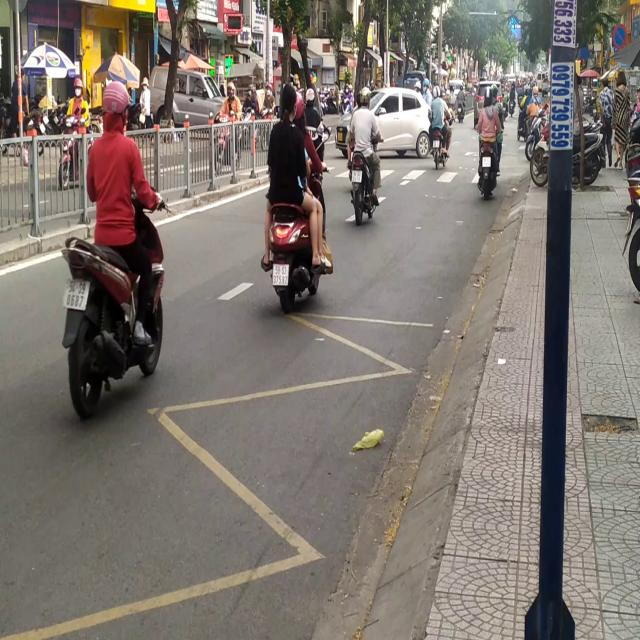bien_trang: (62, 275, 91, 315), (270, 263, 291, 290)
